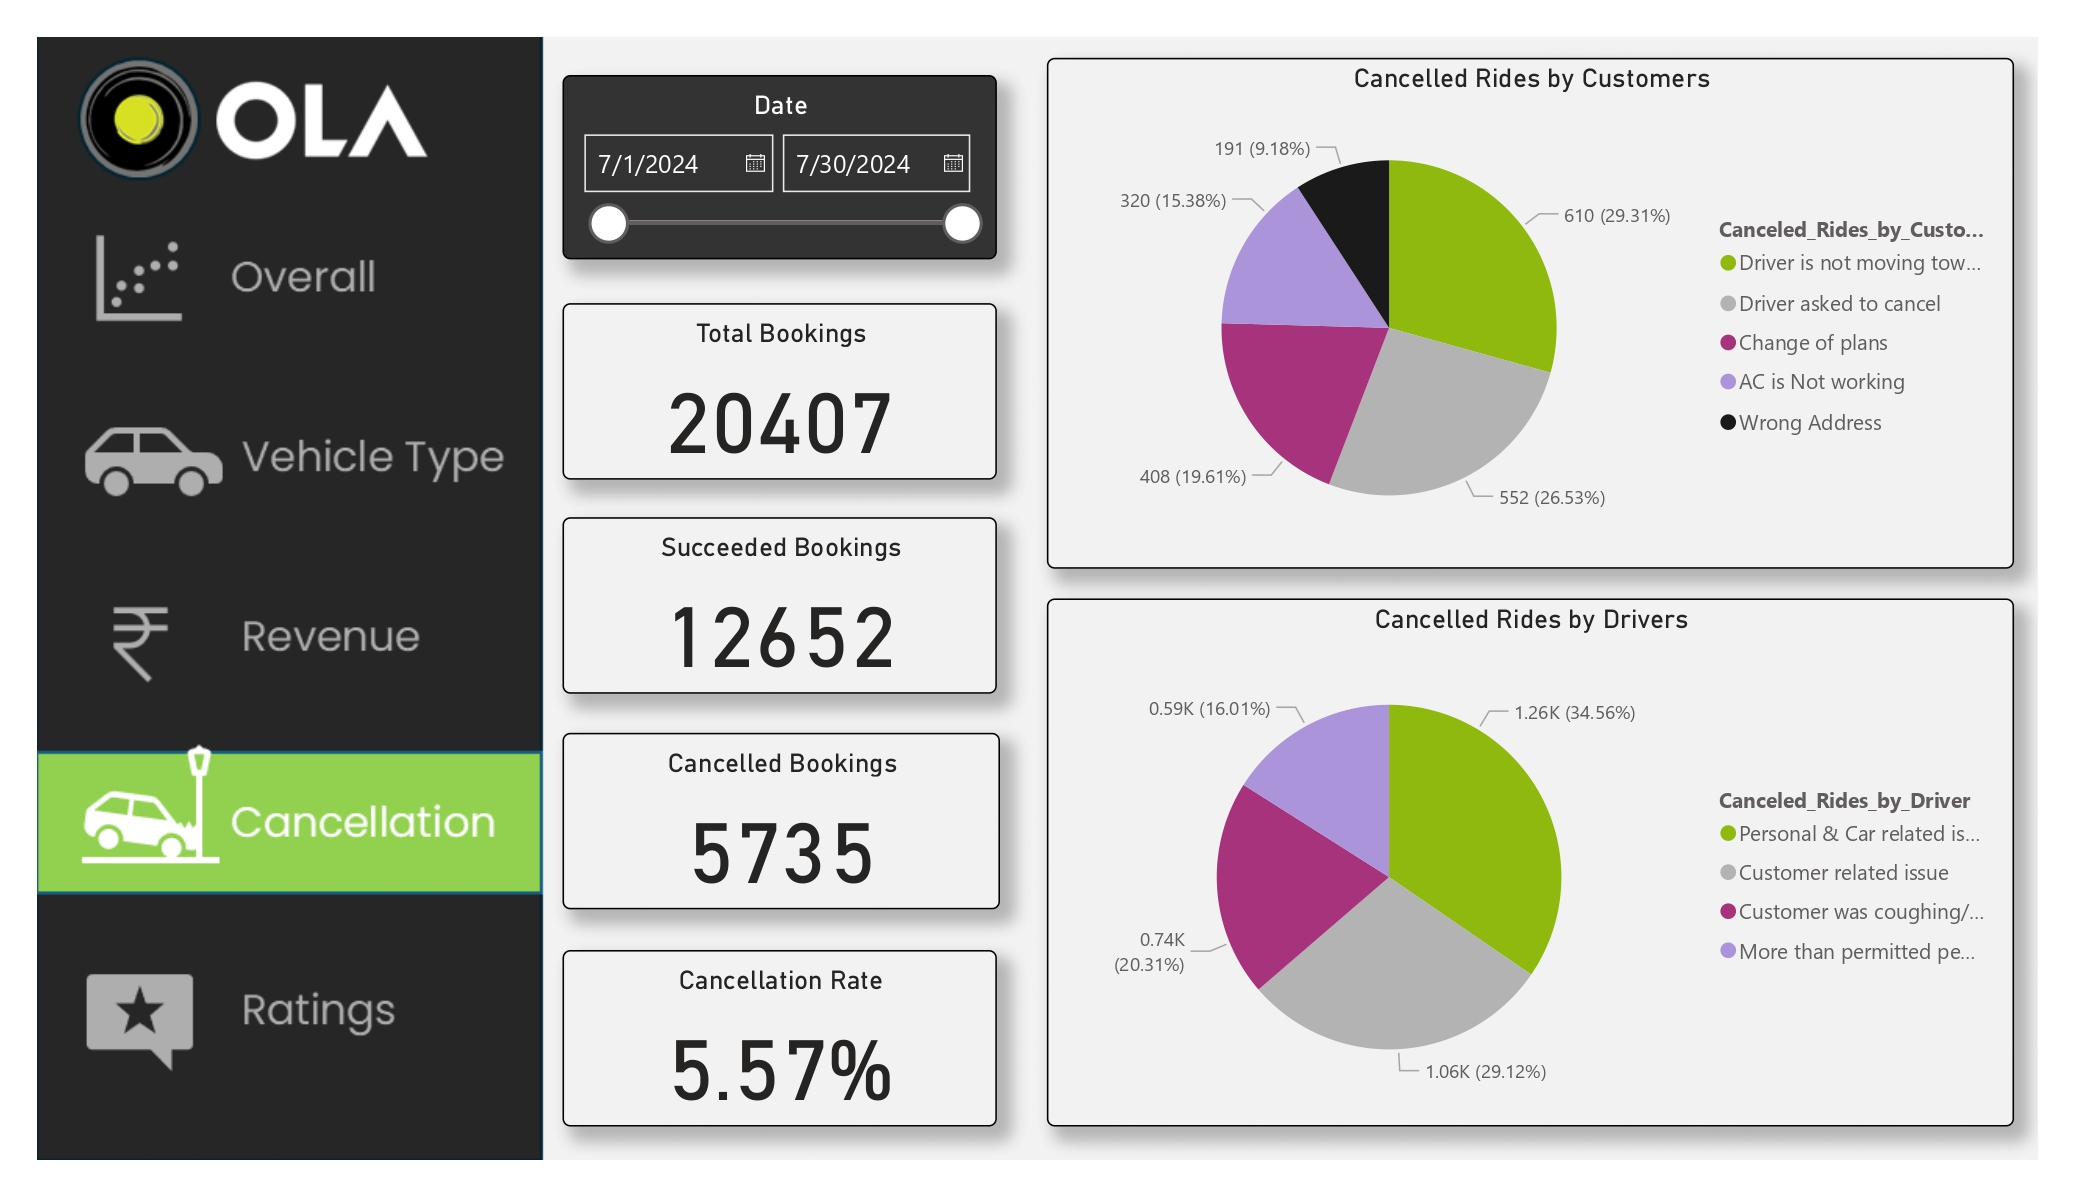

The dashboard page shown, as its layout file describes it:
{"tool":"powerbi","page":{"name":"Cancellation","canvas":[1280,720],"ordinal":3},"visuals":[{"type":"actionButton","box":[0,224,325,91],"z":0},{"type":"actionButton","box":[0,338,325,93],"z":1000},{"type":"actionButton","box":[0,578,325,93],"z":2000},{"type":"actionButton","box":[0,110,325,93],"z":3000},{"type":"pieChart","title":"Cancelled Rides by Customers","fields":{"Category":["July.Canceled_Rides_by_Customer"],"Y":["CountNonNull(July.Canceled_Rides_by_Customer)"]},"box":[645.8,12.7,618.7,327.7],"z":3001},{"type":"pieChart","title":"Cancelled Rides by Drivers","fields":{"Y":["CountNonNull(July.Canceled_Rides_by_Driver)"],"Category":["July.Canceled_Rides_by_Driver"]},"box":[645.8,359.5,618.7,337.2],"z":3002},{"type":"slicer","title":"Date","fields":{"Values":["July.Date"]},"box":[335.6,23.9,278.4,117.7],"z":3003},{"type":"card","title":"Total Bookings","fields":{"Values":["CountNonNull(July.Booking_ID)"]},"box":[335.6,170.2,278.4,112.9],"z":3004},{"type":"card","title":"Succeeded Bookings","fields":{"Values":["CountNonNull(July.Booking_ID)"]},"box":[335.6,307,278.4,112.9],"z":3005},{"type":"card","title":"Cancelled Bookings","fields":{"Values":["CountNonNull(July.Booking_ID)"]},"box":[335.6,445.4,279.9,112.9],"z":3006},{"type":"card","title":"Cancellation Rate","fields":{"Values":["July.CanceledPercentage"]},"box":[335.6,583.8,278.4,112.9],"z":3007}]}

Visuals, with their boxes on the page's 1280x720 design canvas (x1, y1, x2, y2). These are canvas units, not pixel positions in the 2075x1200 screenshot, which may show the page scaled, cropped or inside an application window:
actionButton: l=0, t=224, r=325, b=315
actionButton: l=0, t=338, r=325, b=431
actionButton: l=0, t=578, r=325, b=671
actionButton: l=0, t=110, r=325, b=203
"Cancelled Rides by Customers" pieChart: l=646, t=13, r=1264, b=340
"Cancelled Rides by Drivers" pieChart: l=646, t=360, r=1264, b=697
"Date" slicer: l=336, t=24, r=614, b=142
"Total Bookings" card: l=336, t=170, r=614, b=283
"Succeeded Bookings" card: l=336, t=307, r=614, b=420
"Cancelled Bookings" card: l=336, t=445, r=616, b=558
"Cancellation Rate" card: l=336, t=584, r=614, b=697
